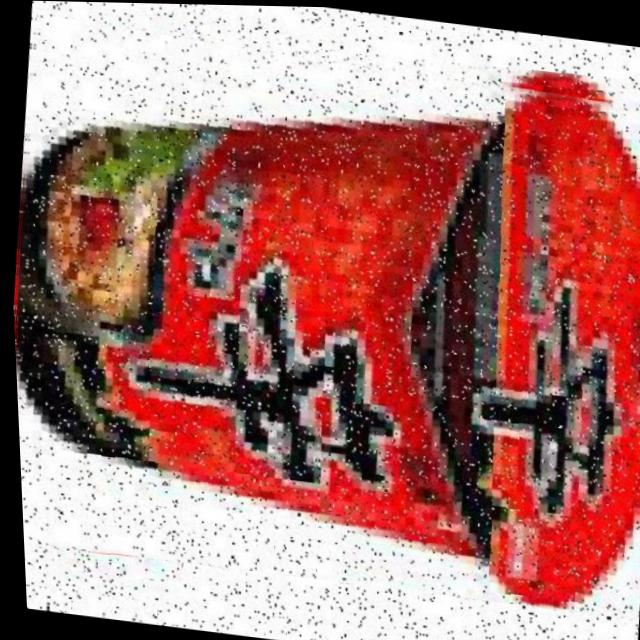Miscellaneous: (0, 6, 640, 616)
